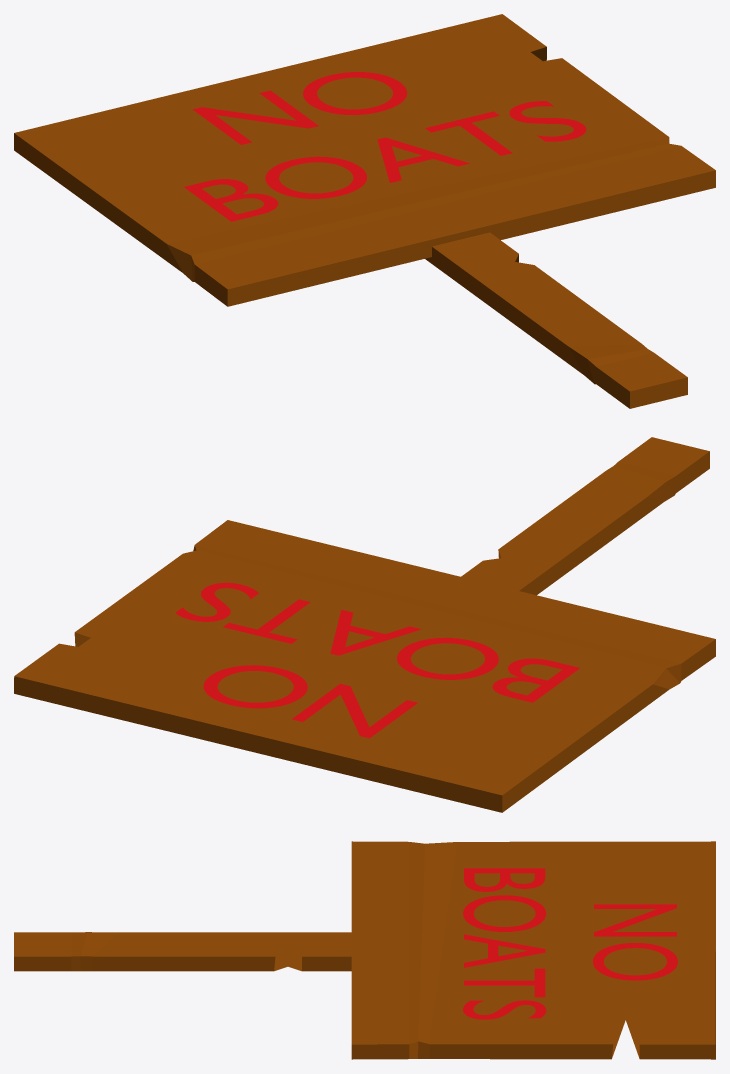
The model's file is no_boat_sign.fbx.
The picture shows the model from 3 angles, top to bottom: view 1: azimuth 30°, elevation 25°; view 2: azimuth 150°, elevation 25°; view 3: azimuth 270°, elevation 25°; orthographic projection. The views are drawn at different scales.
Visible parts, largest first — view 1: Cube.003, Cube.001, Text.001, Text; view 2: Cube.003, Cube.001, Text.001, Text; view 3: Cube.003, Cube.001, Text.001, Text.
Boxes of the visible parts, x1=… form: Cube.003: x1=14, y1=14, x2=715, y2=306; Cube.001: x1=425, y1=232, x2=687, y2=408; Text.001: x1=184, y1=101, x2=586, y2=221; Text: x1=192, y1=72, x2=407, y2=144; Cube.003: x1=14, y1=520, x2=715, y2=812; Cube.001: x1=461, y1=437, x2=709, y2=595; Text.001: x1=175, y1=582, x2=579, y2=702; Text: x1=203, y1=665, x2=417, y2=738; Cube.003: x1=351, y1=841, x2=715, y2=1059; Cube.001: x1=14, y1=932, x2=351, y2=971; Text.001: x1=463, y1=868, x2=546, y2=1019; Text: x1=593, y1=904, x2=677, y2=980.
Size of the model in its own units: 1334 by 72.84 by 1949.
